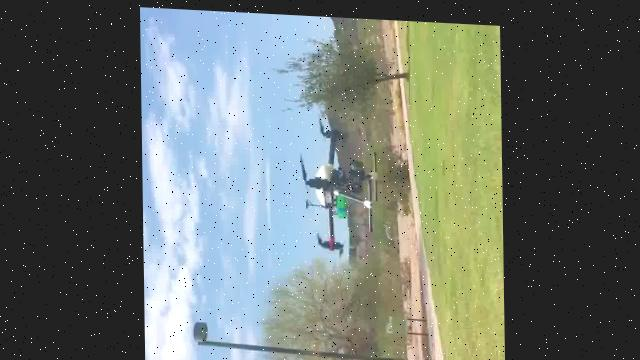drone: (301, 115, 379, 251)
